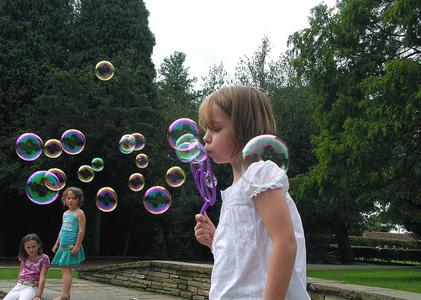person: (191, 84, 317, 300)
